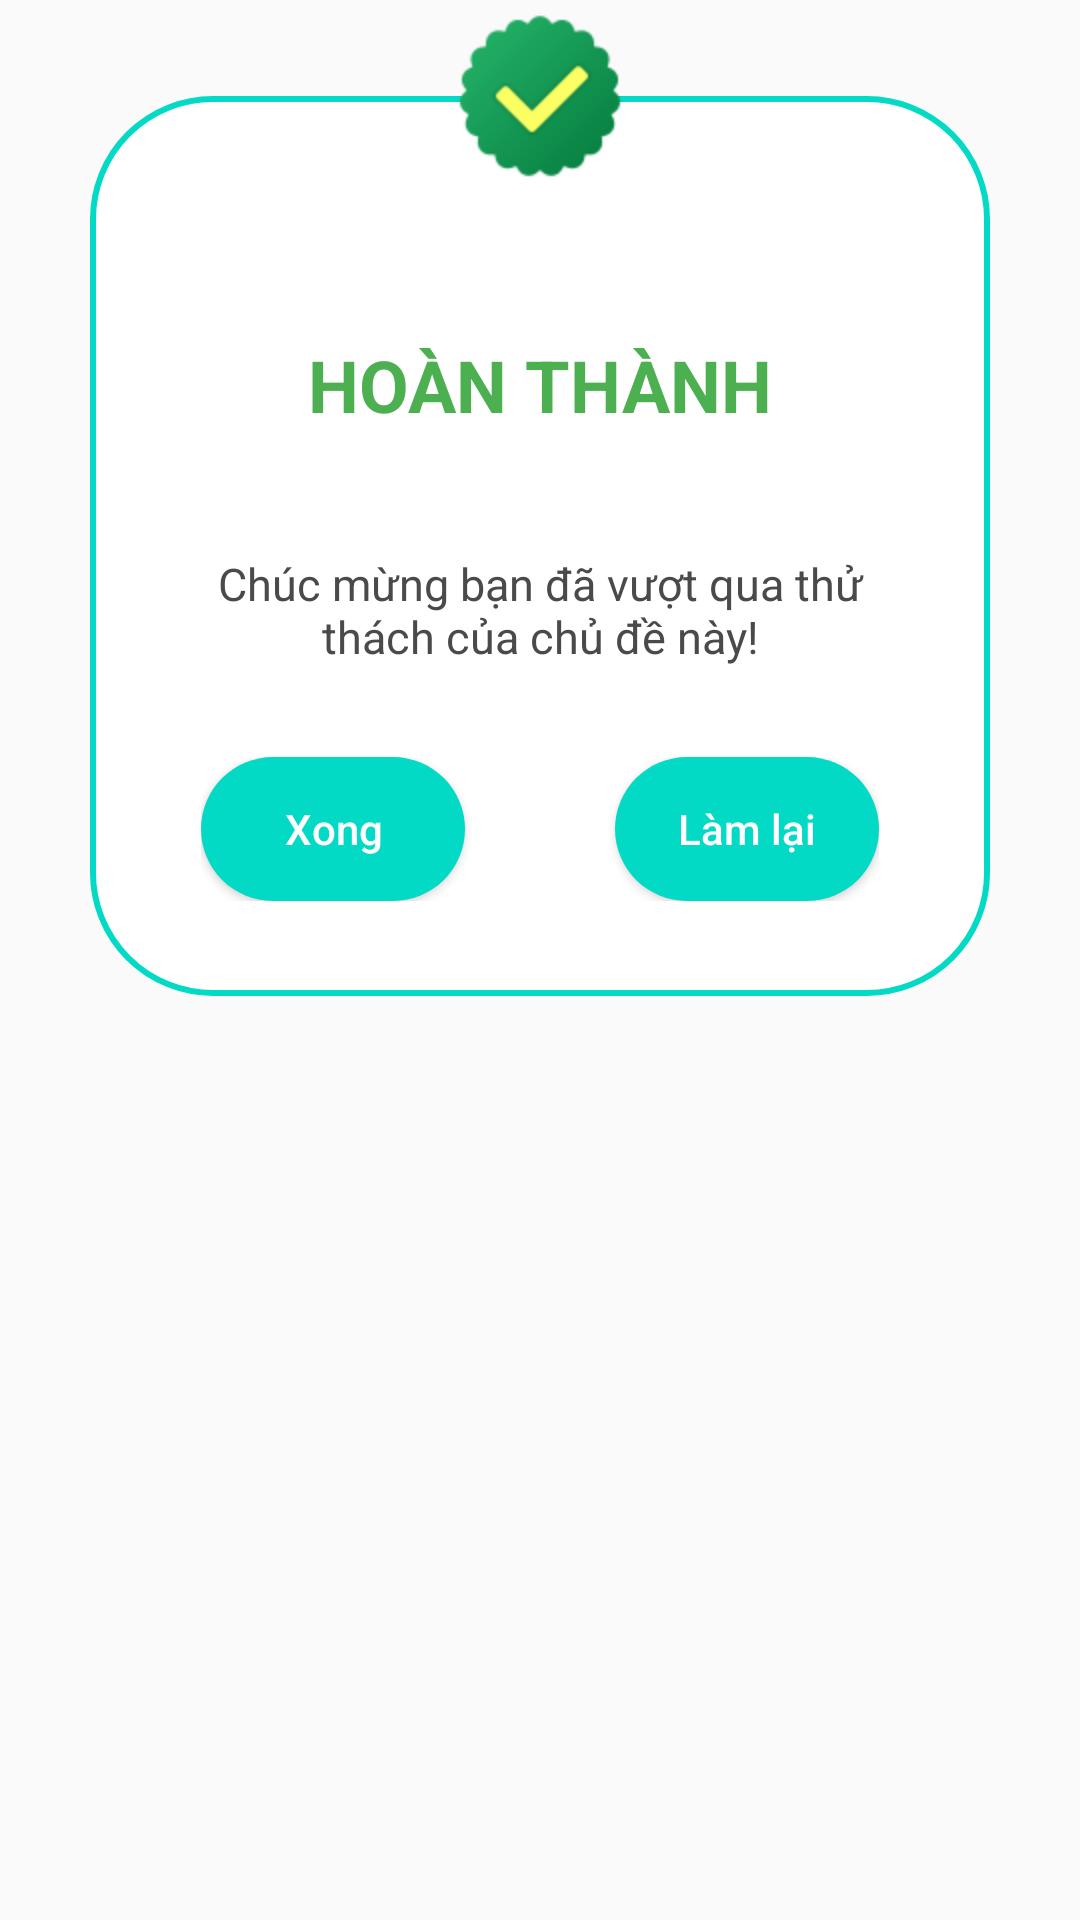

Icon click points for this 1080w x 1920h phone screenshot, format point (x, y):
passed: point (540, 96)
